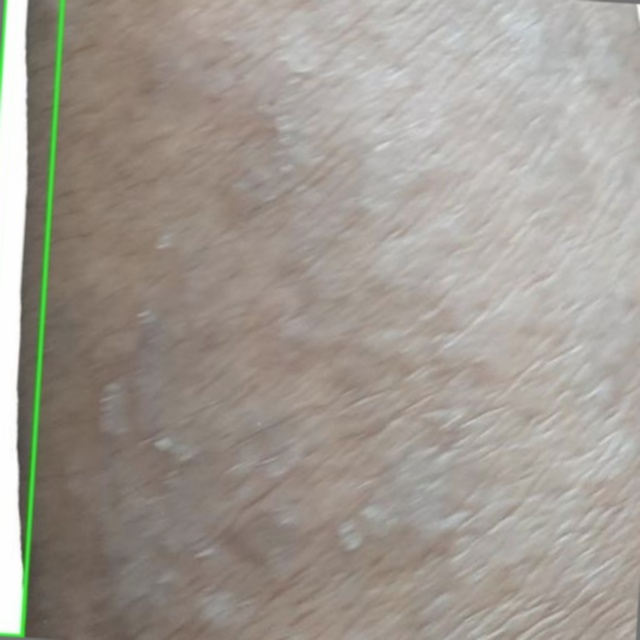Tinea Corporis: (0, 0, 62, 636)
